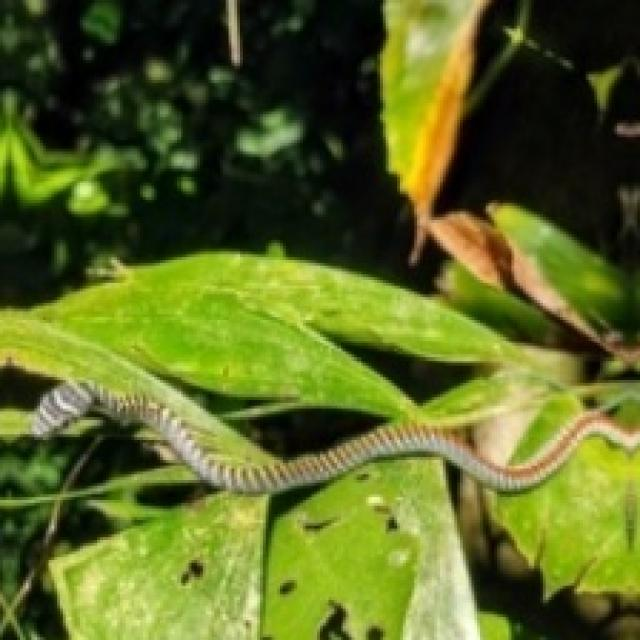paradise tree snake: (31, 380, 637, 491)
